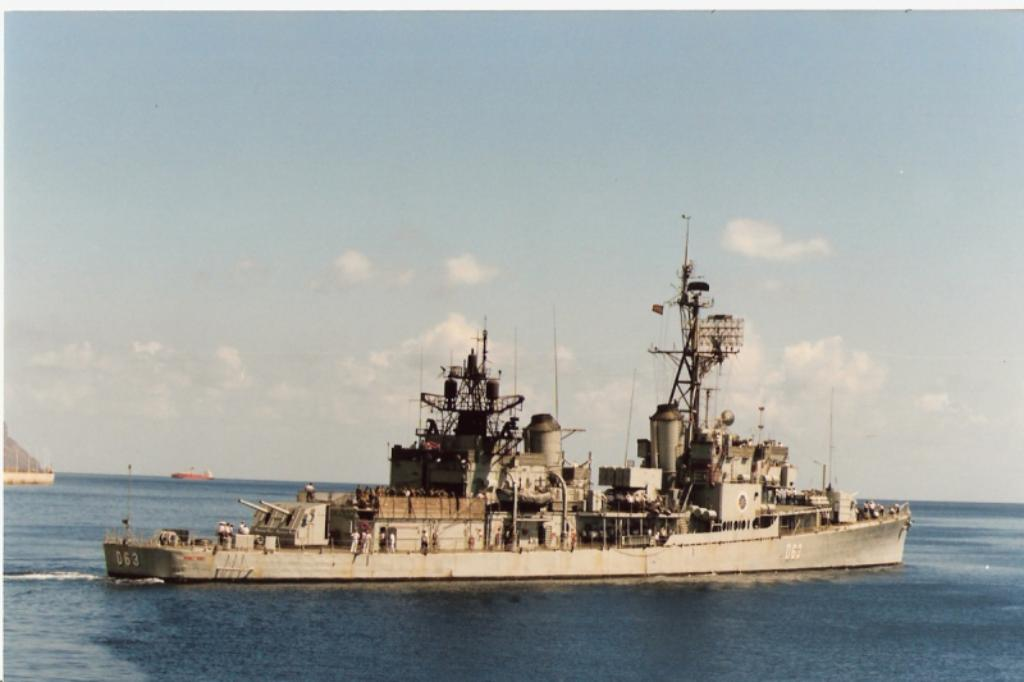Warship: (98, 204, 916, 589)
